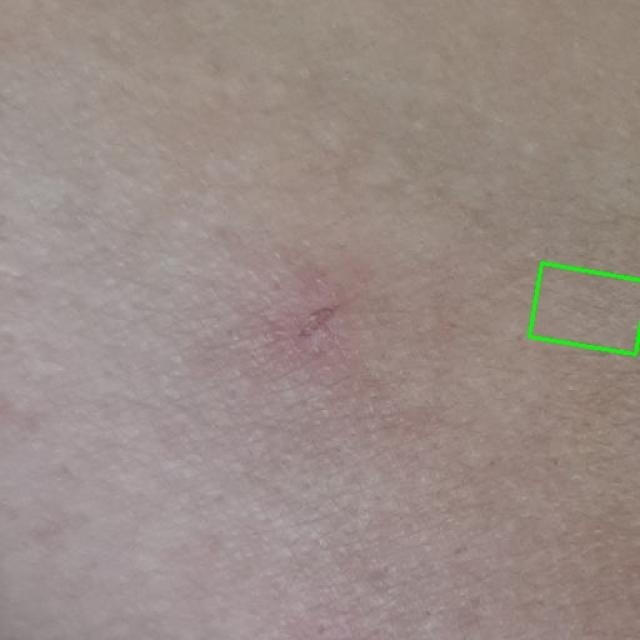Seborrheic Dermatitis: (529, 263, 640, 355)
